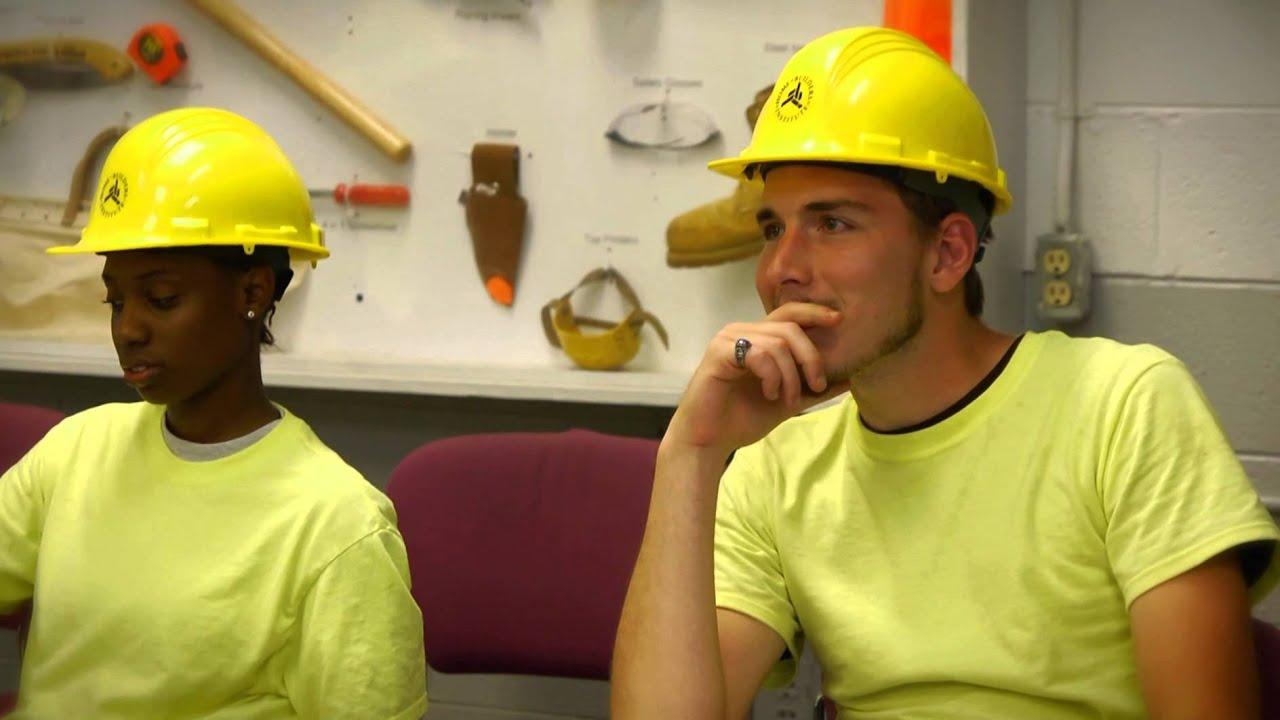helmet: (709, 25, 1011, 209), (45, 105, 326, 266)
